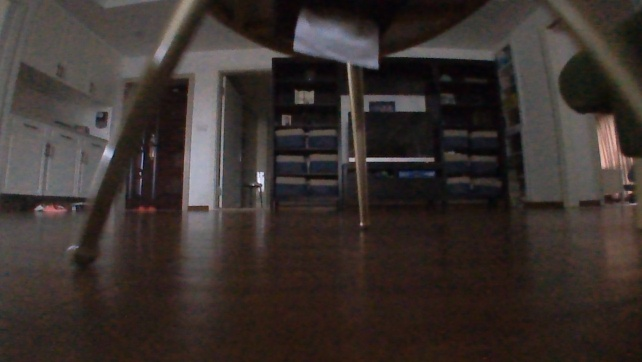TV_stand: (337, 159, 448, 213)
door_anno: (111, 70, 195, 216), (209, 72, 245, 211)
